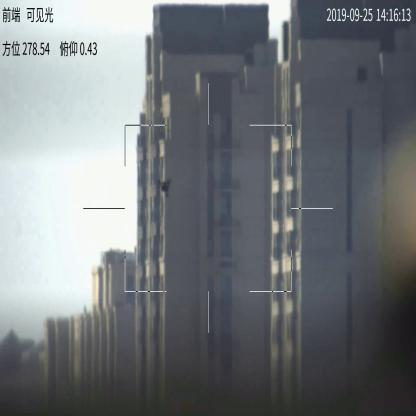uav: (157, 175, 172, 198)
